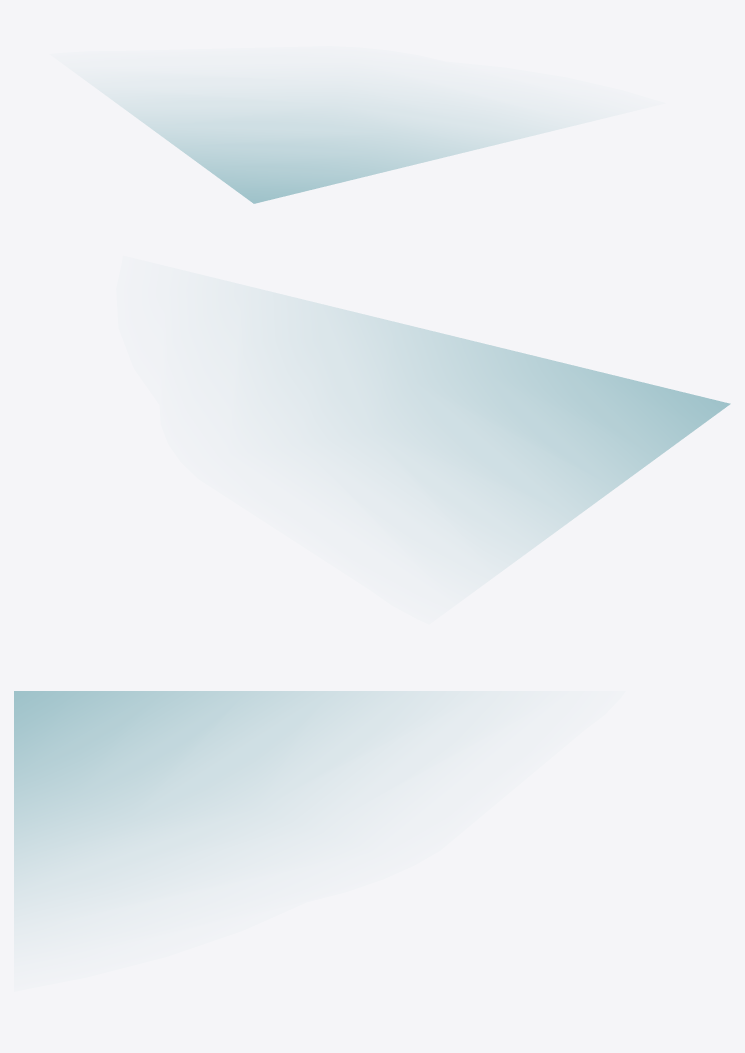
The picture shows the model from 3 angles, top to bottom: view 1: azimuth 30°, elevation 25°; view 2: azimuth 150°, elevation 25°; view 3: azimuth 270°, elevation 25°; orthographic projection. The views are drawn at different scales.
Visible parts, largest first — view 1: city; view 2: city; view 3: city.
Part boxes in pixels (x1,y1,x2,y2): city: (104, 90, 566, 203); city: (267, 291, 730, 566); city: (14, 691, 467, 920).
Bounding box in the file's own units: 320 × 0 × 279.
